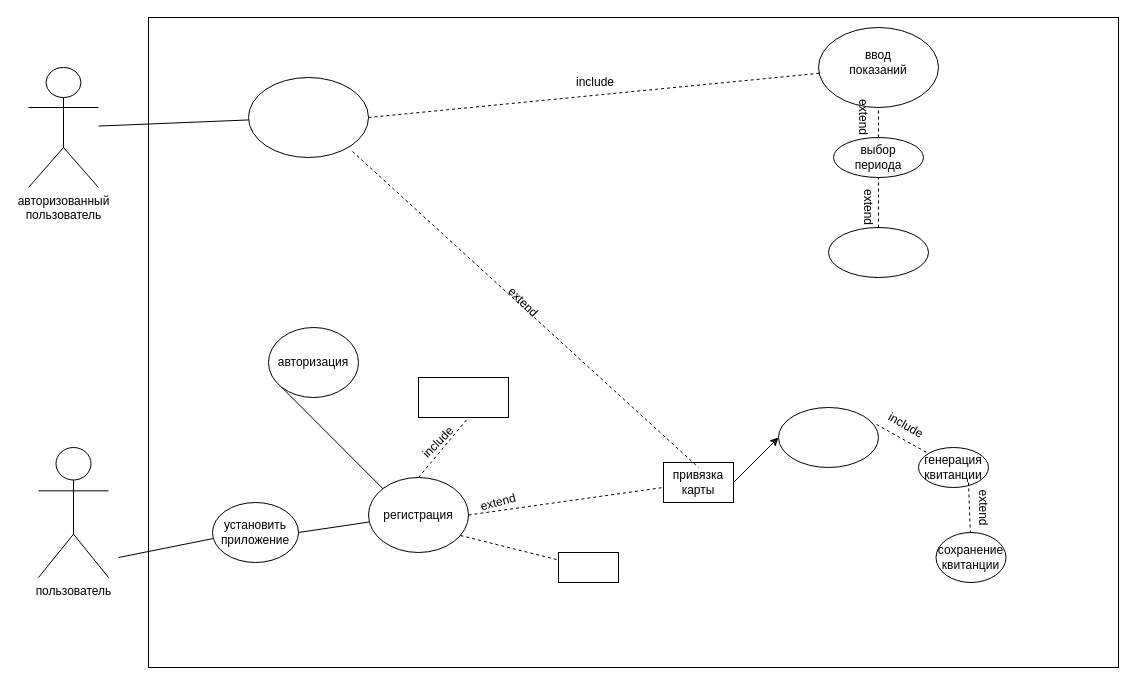
Image size: 1136x685. Some labels were removed from this diagram. Each missing label, with the centre of its shape:
"заполнение лицевого счета" belongs at pixel 463 397.
"запрос отчета" belongs at pixel 878 252.
"личные данные" belongs at pixel 588 567.
"оплата услуг" belongs at pixel 308 117.
"подтверждение оплаты" belongs at pixel 828 437.
